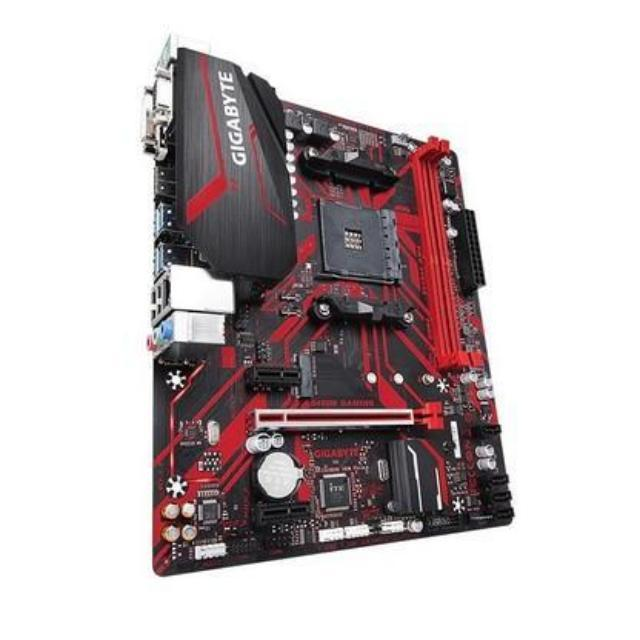Mainboard: (133, 45, 527, 570)
